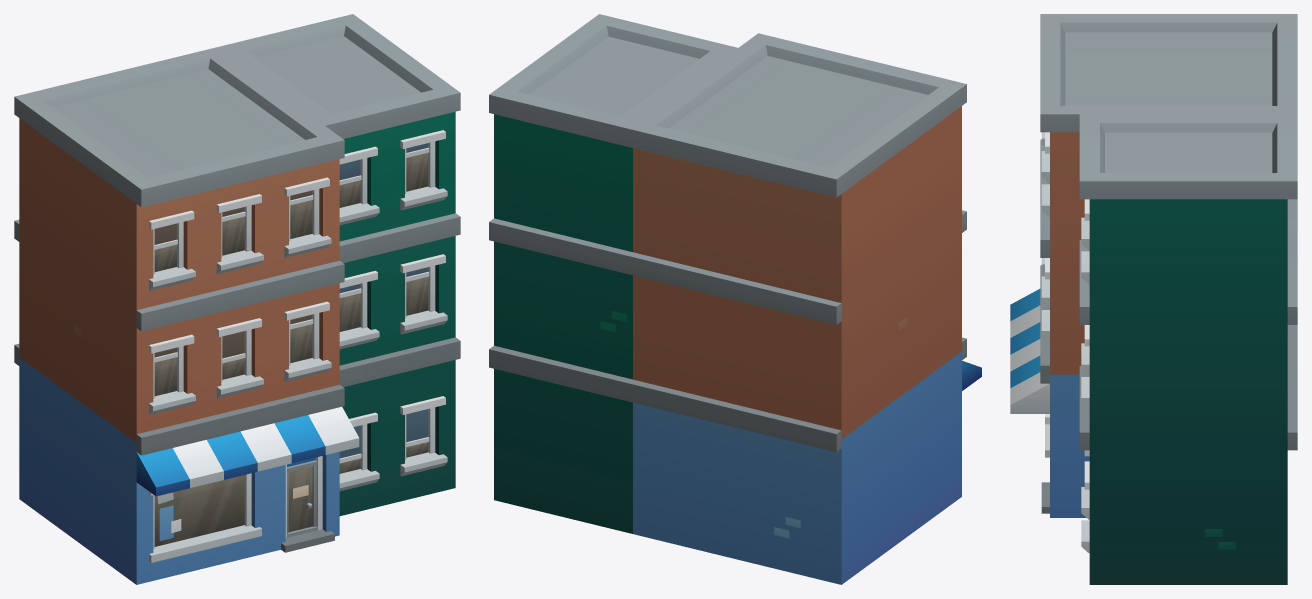
Rendered from kay-predio-g.gltf.
The picture shows the model from 3 angles, left to right: view 1: azimuth 30°, elevation 25°; view 2: azimuth 150°, elevation 25°; view 3: azimuth 270°, elevation 25°; orthographic projection. The views are drawn at different scales.
Visible parts, largest first — view 1: building_G_withoutBase; view 2: building_G_withoutBase; view 3: building_G_withoutBase.
Part boxes in pixels (x1,y1,x2,y2): building_G_withoutBase: (14,14,460,584); building_G_withoutBase: (489,14,981,584); building_G_withoutBase: (1010,14,1297,584).
Bounding box in the file's own units: 10.03 × 11.25 × 7.25.
1 material, 1 textured.
